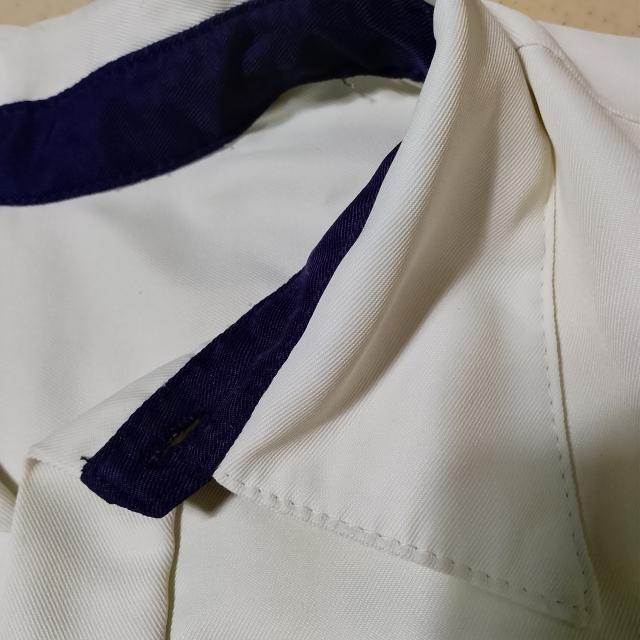education_male_uniform: (0, 0, 571, 627)
